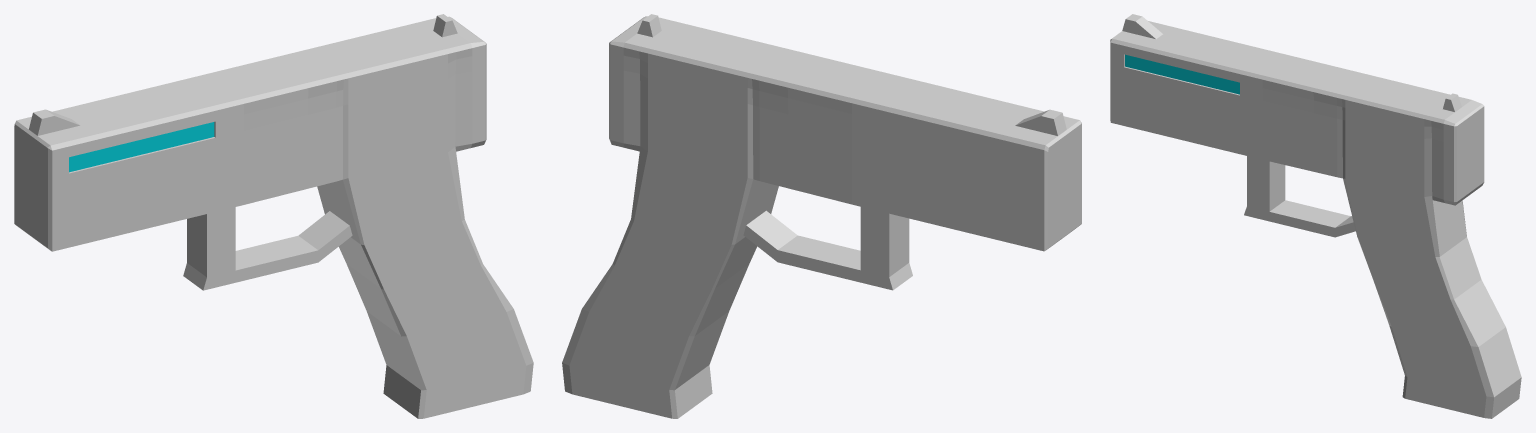
File: Pistol 2.fbx
The picture shows the model from 3 angles, left to right: view 1: azimuth 30°, elevation 25°; view 2: azimuth 150°, elevation 25°; view 3: azimuth 330°, elevation 25°; orthographic projection. The views are drawn at different scales.
Parts seen in each view (by area): view 1: Cube; view 2: Cube; view 3: Cube.
Part boxes in pixels (x1=…): Cube: x1=14, y1=14, x2=533, y2=418; Cube: x1=562, y1=14, x2=1081, y2=418; Cube: x1=1110, y1=14, x2=1521, y2=418.
Bounding box in the file's own units: 802 × 599 × 106.
